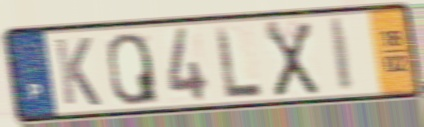4: (165, 25, 211, 105)
I: (326, 15, 356, 94)
K: (51, 35, 104, 108)
L: (212, 23, 265, 102)
Q: (104, 30, 161, 107)
X: (261, 20, 321, 100)
